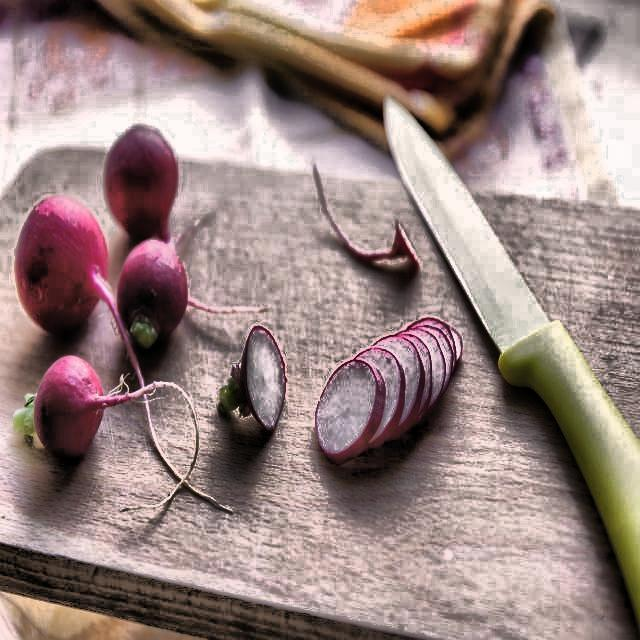knife: (382, 90, 640, 638)
